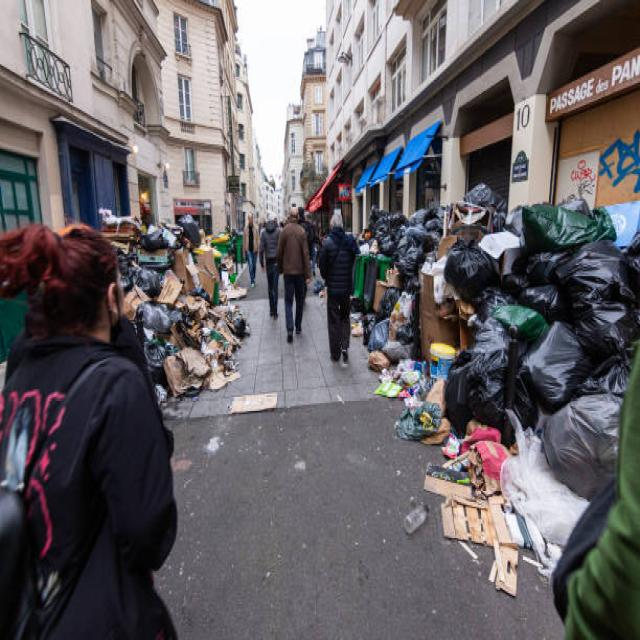cardboard: (150, 250, 242, 396), (108, 212, 148, 254)
trash: (429, 204, 618, 450), (365, 209, 423, 265)
